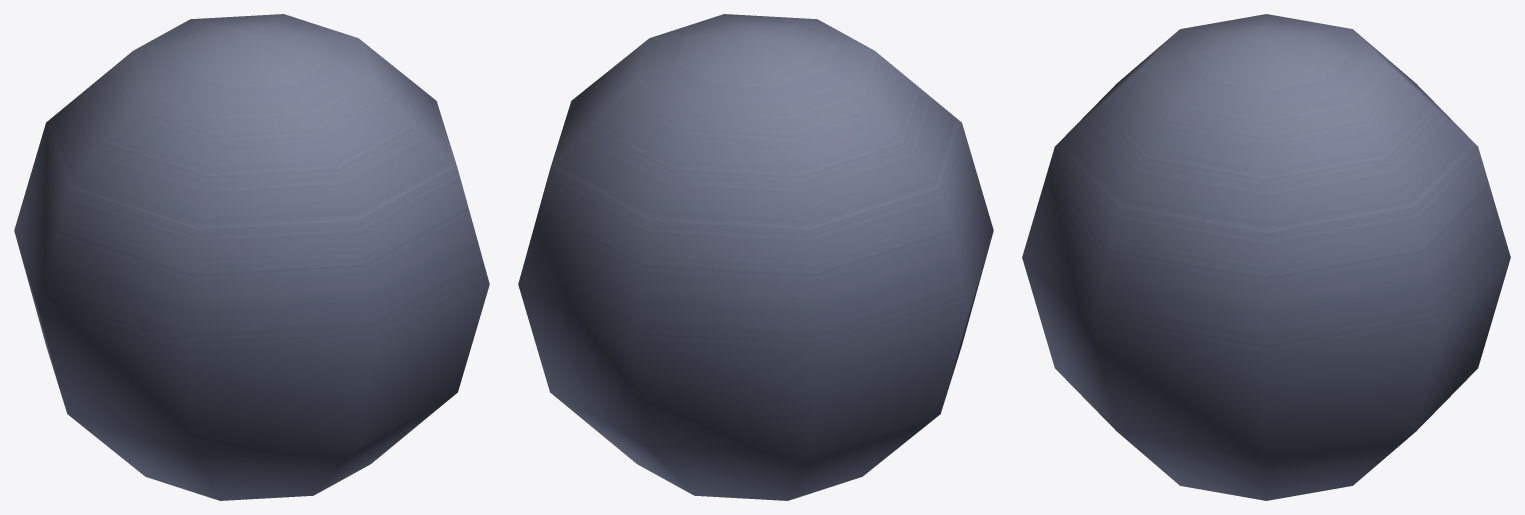
Rendered from p-tower-weapon-ammo-cannonball.glb.
3 renders of one model, left to right at view 1: azimuth 30°, elevation 25°; view 2: azimuth 150°, elevation 25°; view 3: azimuth 270°, elevation 25°, orthographic.
Parts seen in each view (by area): view 1: weapon-ammo-cannonball; view 2: weapon-ammo-cannonball; view 3: weapon-ammo-cannonball.
Boxes of the visible parts, left/top/right/bottom form: weapon-ammo-cannonball: left=14, top=14, right=489, bottom=500; weapon-ammo-cannonball: left=518, top=14, right=993, bottom=500; weapon-ammo-cannonball: left=1022, top=14, right=1510, bottom=500.
Size of the model in its own units: 0.28 by 0.28 by 0.28.
1 material, 1 textured.
